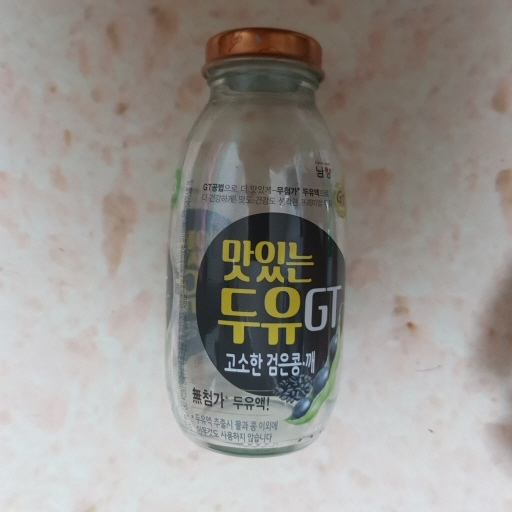Glass_4: (162, 27, 350, 462)
